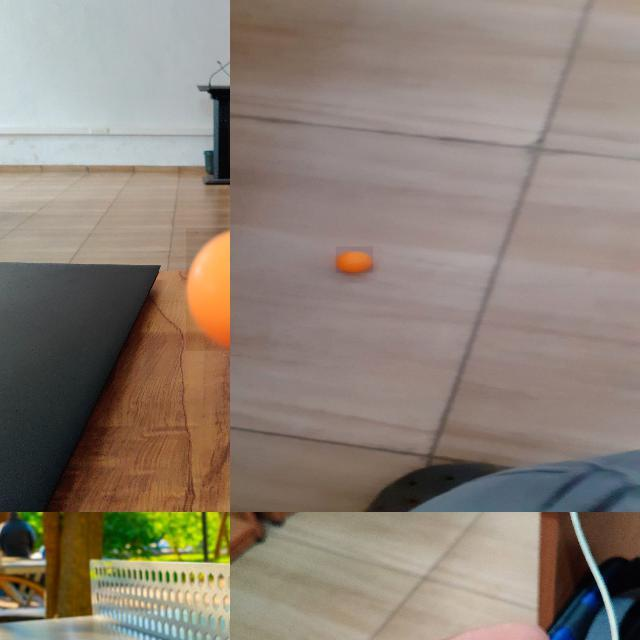ping-pong-ball: (186, 228, 229, 352), (336, 246, 374, 274)
